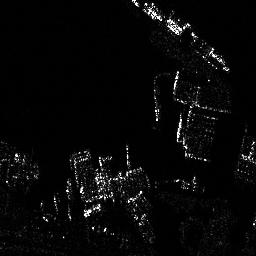ship: (150, 83, 162, 122)
